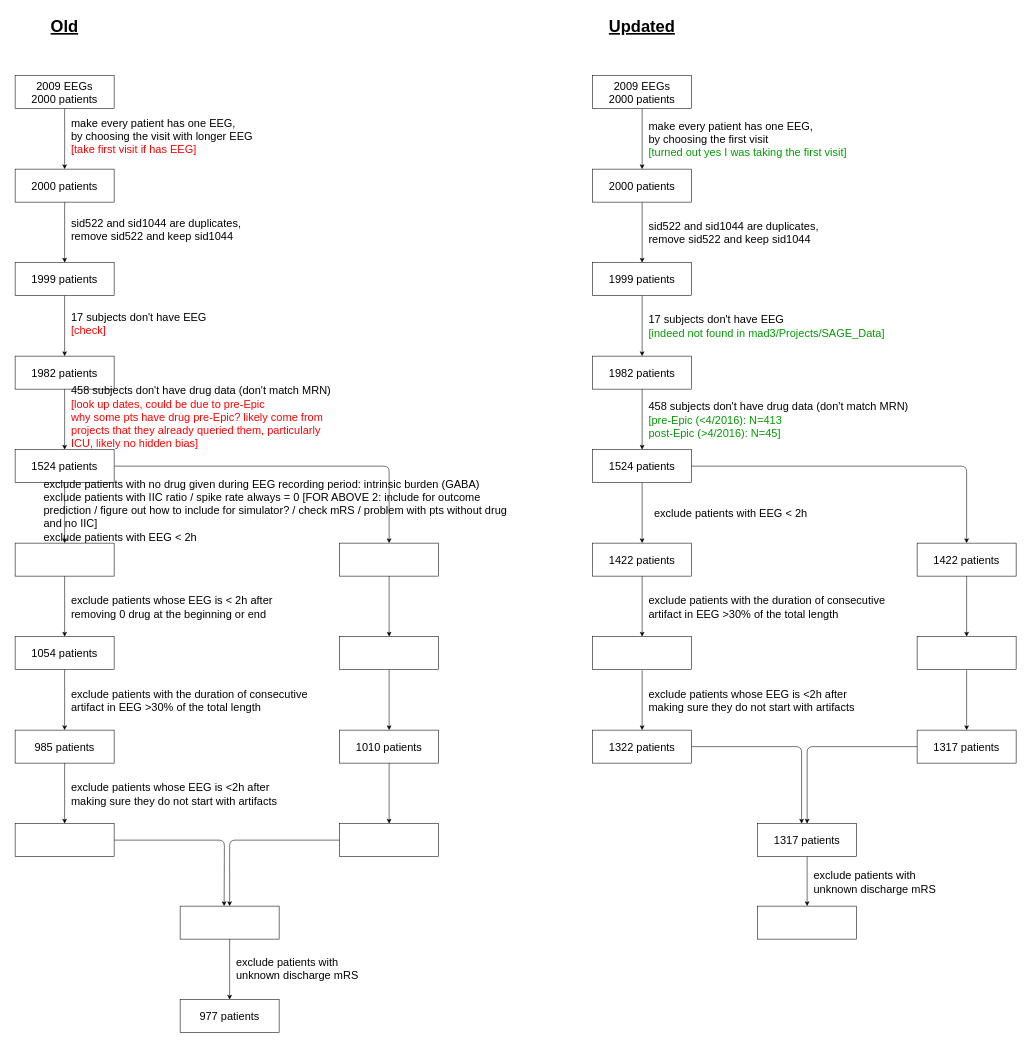
Image size: 1026x1042. Some labels were removed from this diagram. The shapes that lost their labels are listed below. From the top down, each one's centre as x and y in pixels, then its label:
At point 64,559: "1060 patients".
At point 389,559: "1092 patients".
At point 389,653: "1086 patients".
At point 642,653: "1323 patients".
At point 966,653: "1318 patients".
At point 64,840: "984 patients".
At point 389,840: "1009 patients".
At point 229,922: "980 patients".
At point 807,922: "1309 patients".
